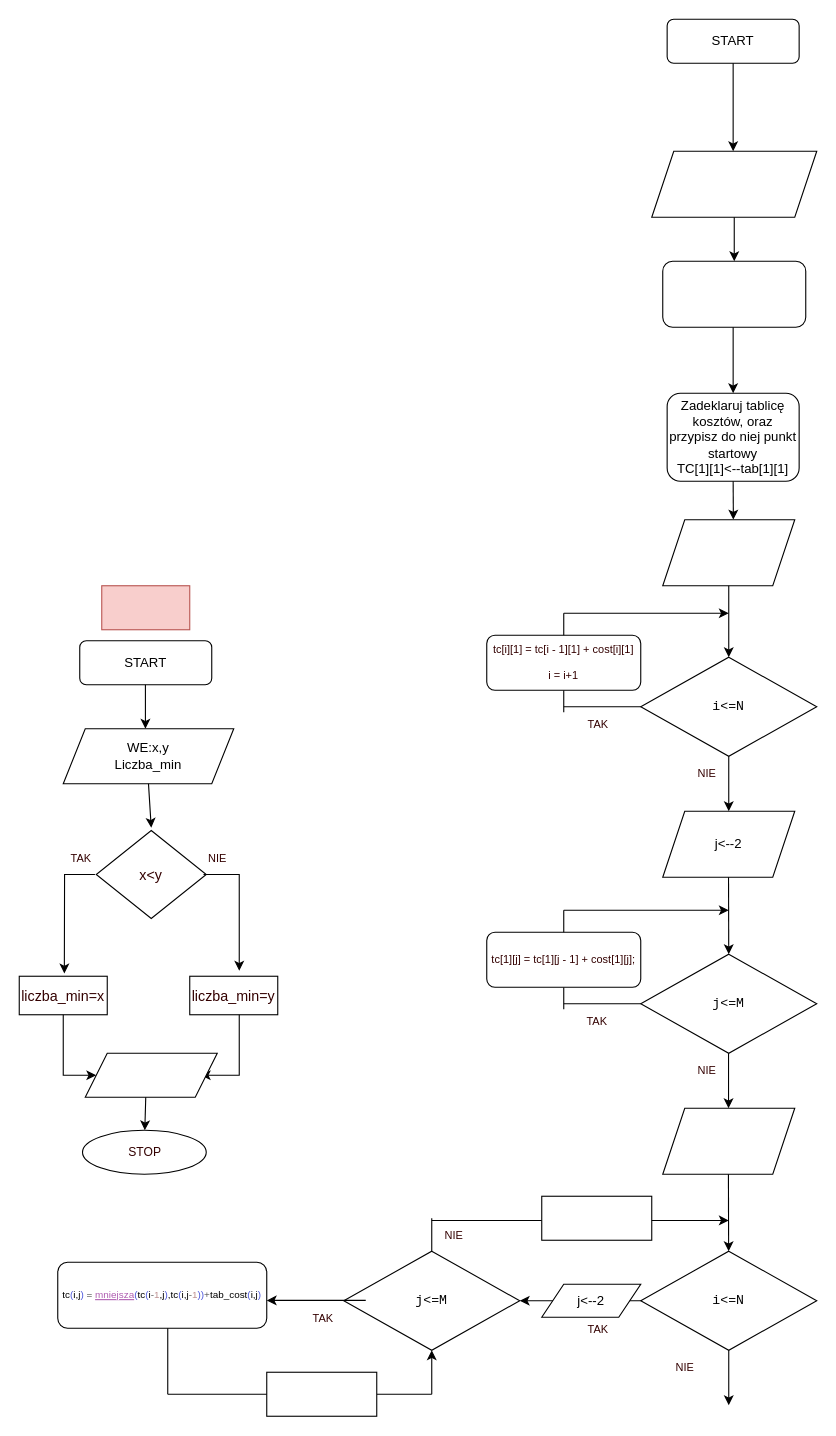
This 836x1436 diagram has some shape labels left out. Here are the shapes that lost their labels. From the top down, the centre of each, then its label:
the point at 734,183: WE:tab[N][M]
the point at 734,293: Wywołaj procedure szukania trasy minCost(tab[N][M],N,M)
the point at 728,552: i<--2
the point at 145,607: Funkcja mniejsza()
the point at 150,1074: WY:liczba_min
the point at 728,1140: i<--2 j<--2
the point at 596,1217: i = i+1
the point at 321,1393: j = j+1
